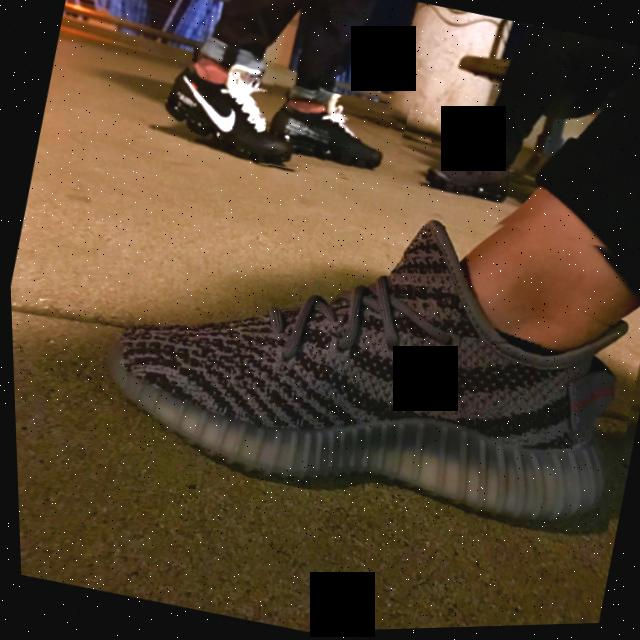shoe: (73, 134, 640, 563), (141, 33, 323, 184), (255, 80, 411, 196)
